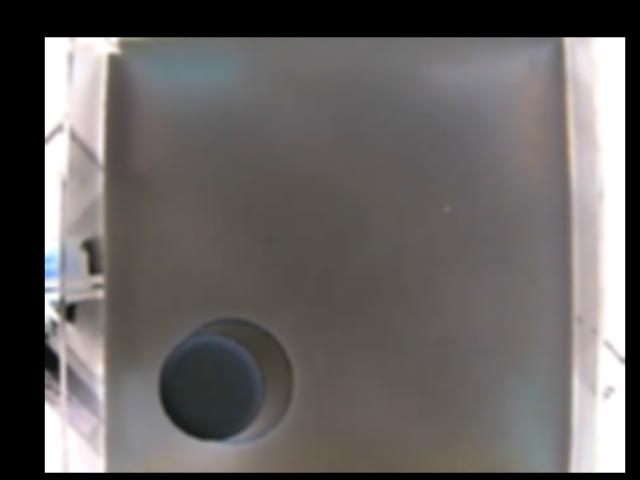Cup: (156, 317, 296, 445)
